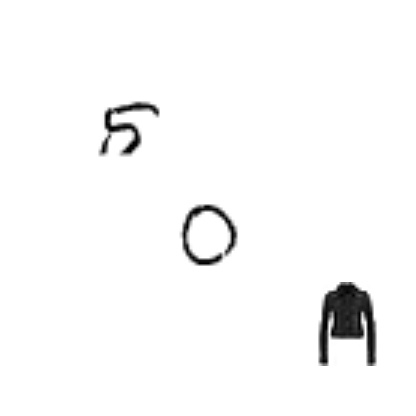0: (165, 190, 249, 274)
5: (81, 81, 165, 165)
Coat: (304, 282, 388, 366)
